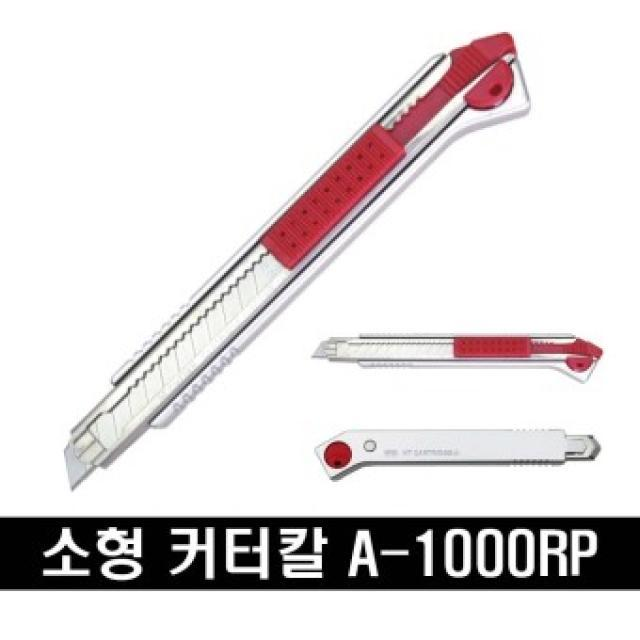cutter: (54, 30, 544, 484), (309, 310, 616, 378), (306, 422, 605, 482)
